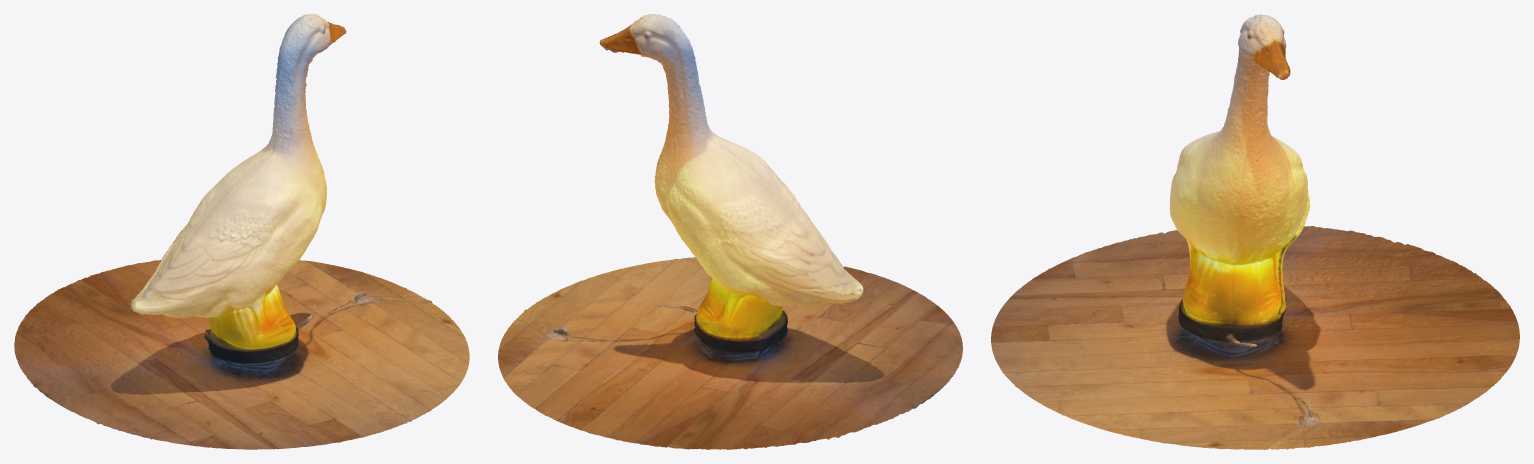
The model's file is goose.glb.
The picture shows the model from 3 angles, left to right: view 1: azimuth 30°, elevation 25°; view 2: azimuth 150°, elevation 25°; view 3: azimuth 270°, elevation 25°; orthographic projection. The views are drawn at different scales.
Visible parts, largest first — view 1: Object_4, Object_2, Object_3, Object_5; view 2: Object_3, Object_2, Object_4, Object_5; view 3: Object_3, Object_4, Object_5, Object_2.
Part boxes in pixels (x1,y1,x2,y2): Object_4: (14,93,403,371); Object_2: (20,14,454,449); Object_3: (97,95,469,428); Object_5: (14,96,420,449); Object_3: (511,87,887,435); Object_2: (498,14,962,423); Object_4: (498,84,884,449); Object_5: (498,96,938,449); Object_3: (1000,83,1500,449); Object_4: (1170,74,1519,446); Object_5: (991,79,1514,441); Object_2: (995,14,1477,449).
Bounding box in the file's own units: 0.8121 × 0.6346 × 0.8342.
Materials: 1 (1 with a texture image).
